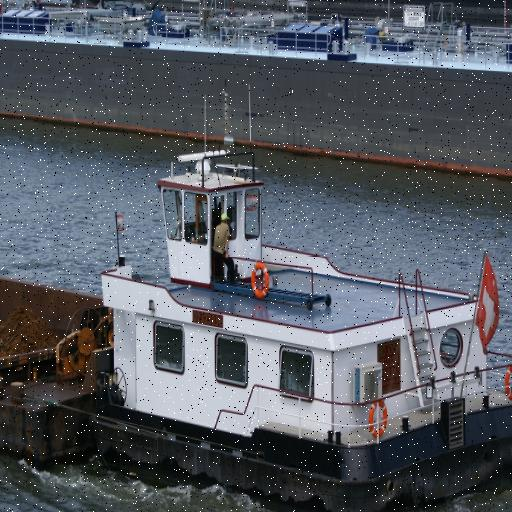tugboat: (76, 77, 512, 512)
